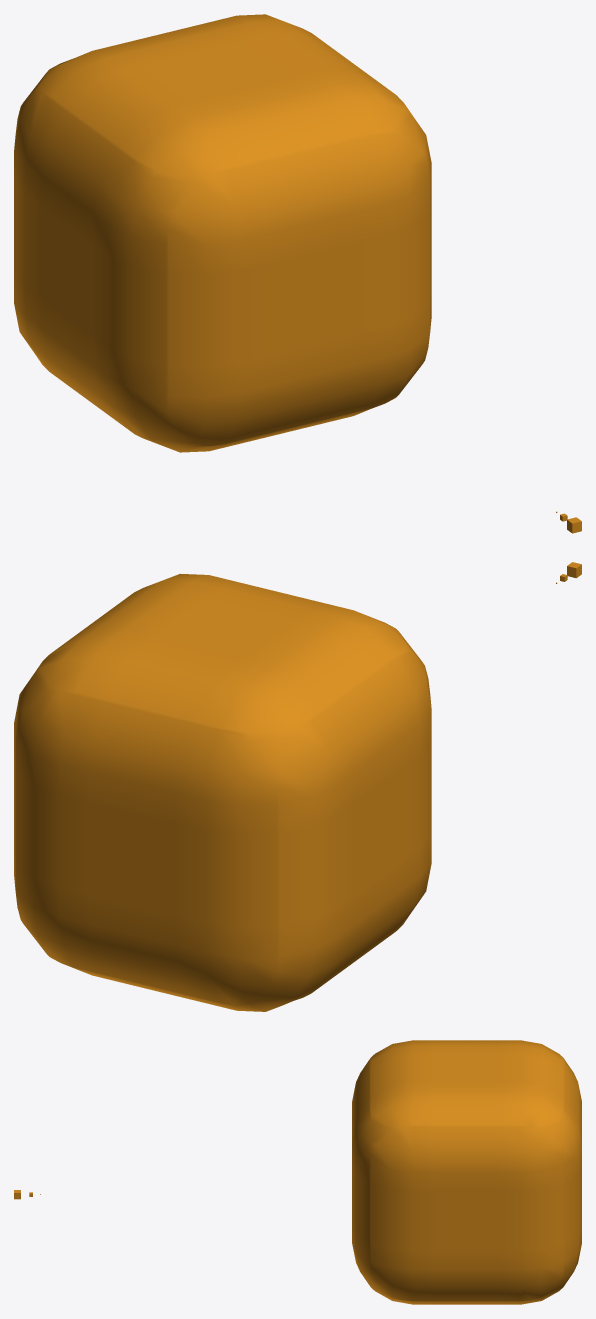
The model's file is 02_Electronics.obj.
The picture shows the model from 3 angles, top to bottom: view 1: azimuth 30°, elevation 25°; view 2: azimuth 150°, elevation 25°; view 3: azimuth 270°, elevation 25°; orthographic projection. The views are drawn at different scales.
Parts seen in each view (by area): view 1: REF_Truck_Bounds; view 2: REF_Truck_Bounds; view 3: REF_Truck_Bounds.
Part boxes in pixels (x1=…): REF_Truck_Bounds: x1=14, y1=14, x2=431, y2=452; REF_Truck_Bounds: x1=14, y1=573, x2=431, y2=1011; REF_Truck_Bounds: x1=352, y1=1040, x2=581, y2=1304.
Bounding box in the file's own units: 3.26 × 3.26 × 8.06.
